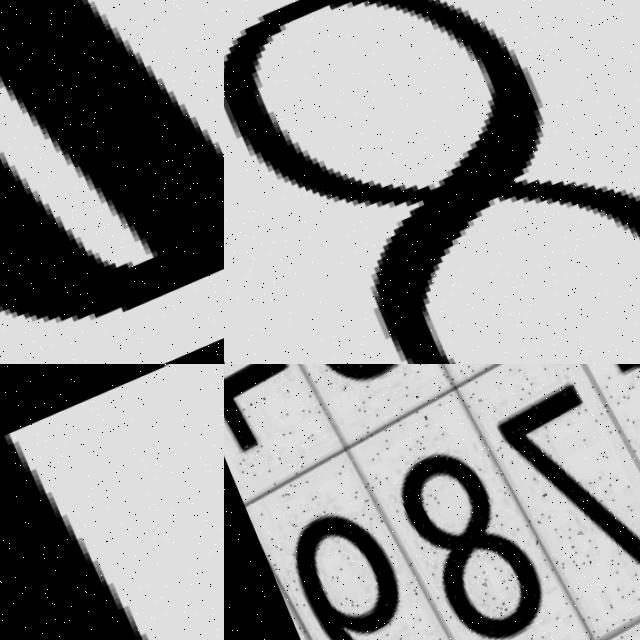4: (224, 364, 314, 461)
6: (590, 364, 640, 550)
7: (484, 367, 640, 609)
8: (224, 0, 640, 364), (372, 427, 555, 640)
9: (259, 483, 450, 640)
T: (0, 364, 224, 640)
